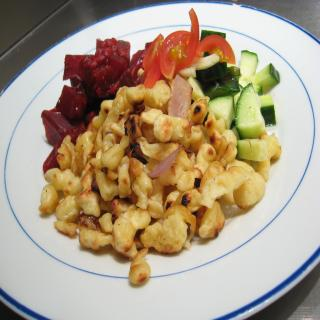tomato: (154, 29, 206, 73), (194, 34, 234, 66), (144, 46, 165, 86), (142, 34, 163, 64)
